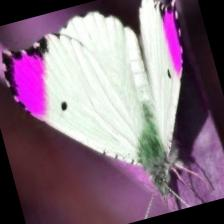butterfly: (2, 0, 183, 194)
